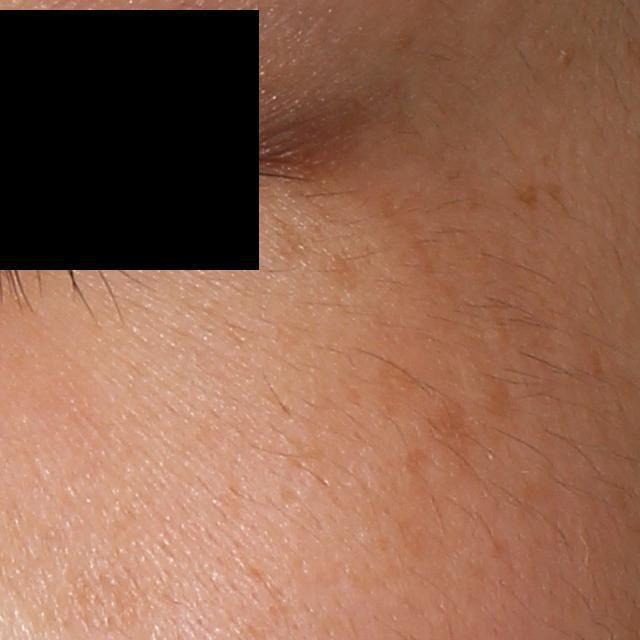melasma: (379, 358, 426, 422), (427, 395, 470, 447), (269, 216, 311, 266), (329, 248, 356, 290), (513, 182, 539, 209)
